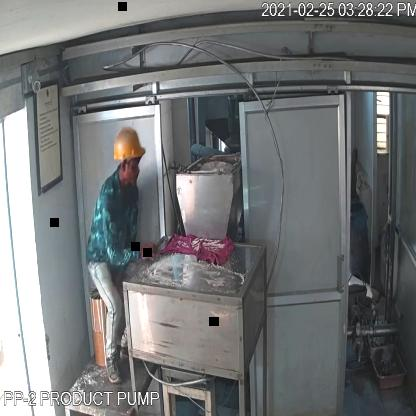helmet: (113, 122, 147, 167)
